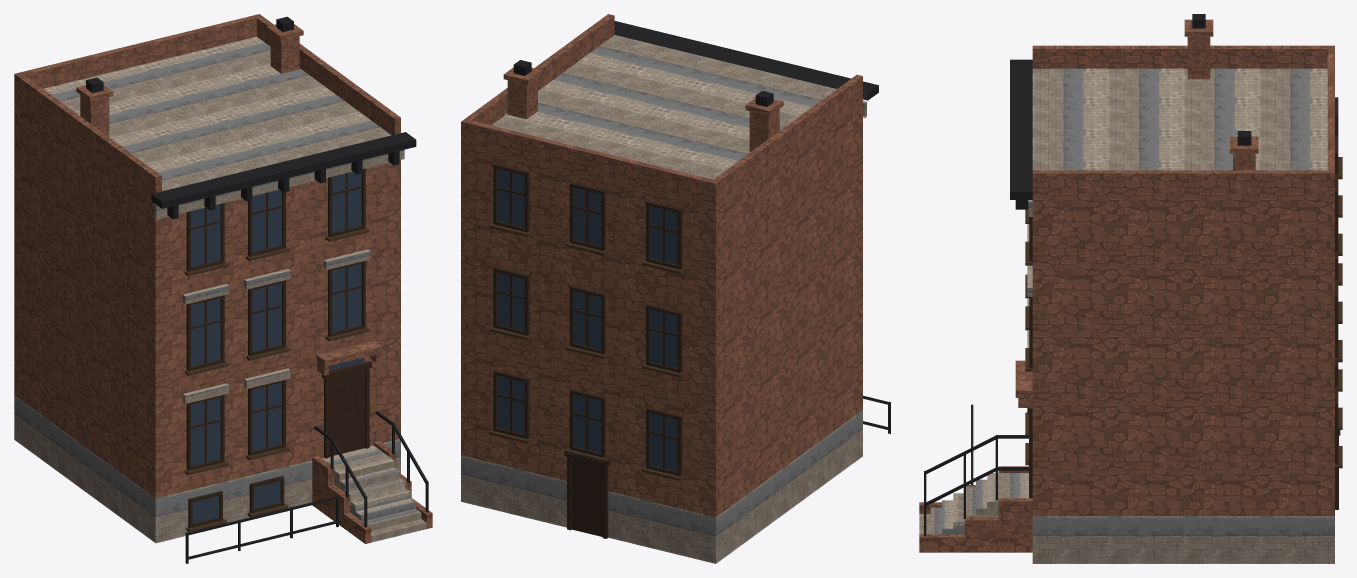
File: brownstone.glb
The picture shows the model from 3 angles, left to right: view 1: azimuth 30°, elevation 25°; view 2: azimuth 150°, elevation 25°; view 3: azimuth 270°, elevation 25°; orthographic projection. The views are drawn at different scales.
Visible parts, largest first — view 1: brownstone; view 2: brownstone; view 3: brownstone.
Boxes of the visible parts, x1,y1,x2,y2 form: brownstone: (14,14,432,563); brownstone: (461,14,890,563); brownstone: (919,14,1342,563).
Size of the model in its own units: 8.3 by 12.5 by 11.2.
5 materials, 3 textured.
